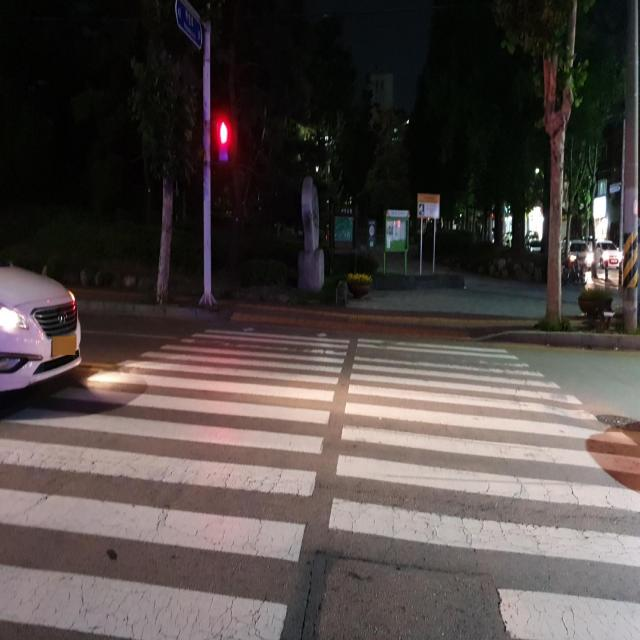빨간불: (213, 113, 234, 167)
횡단보도: (0, 323, 640, 640)
